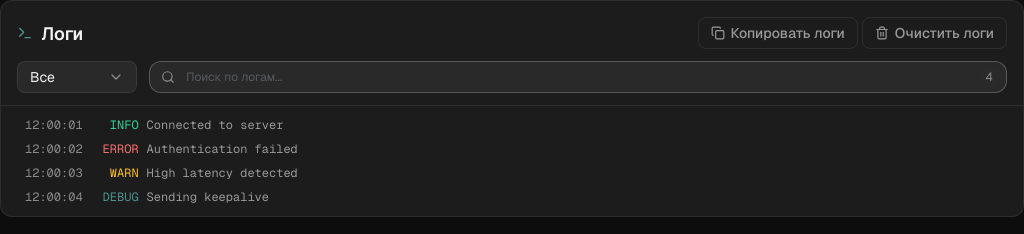
Test: LogPanel › filters logs by search query
Type "Authentication" into the field with placeholder "Поиск по логам..." at [578, 77], box [149,61,1007,93]
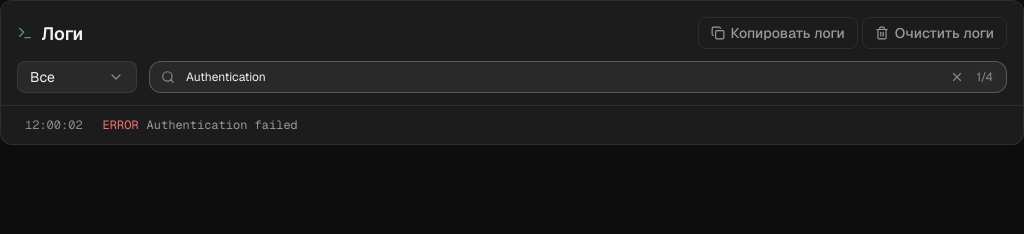
expect the text "Authentication failed" is shown: met, box [147,116,298,134]
expect the text "Connected to server" is gone: met
expect the text "1/4" is shown: met, box [970,66,999,88]
